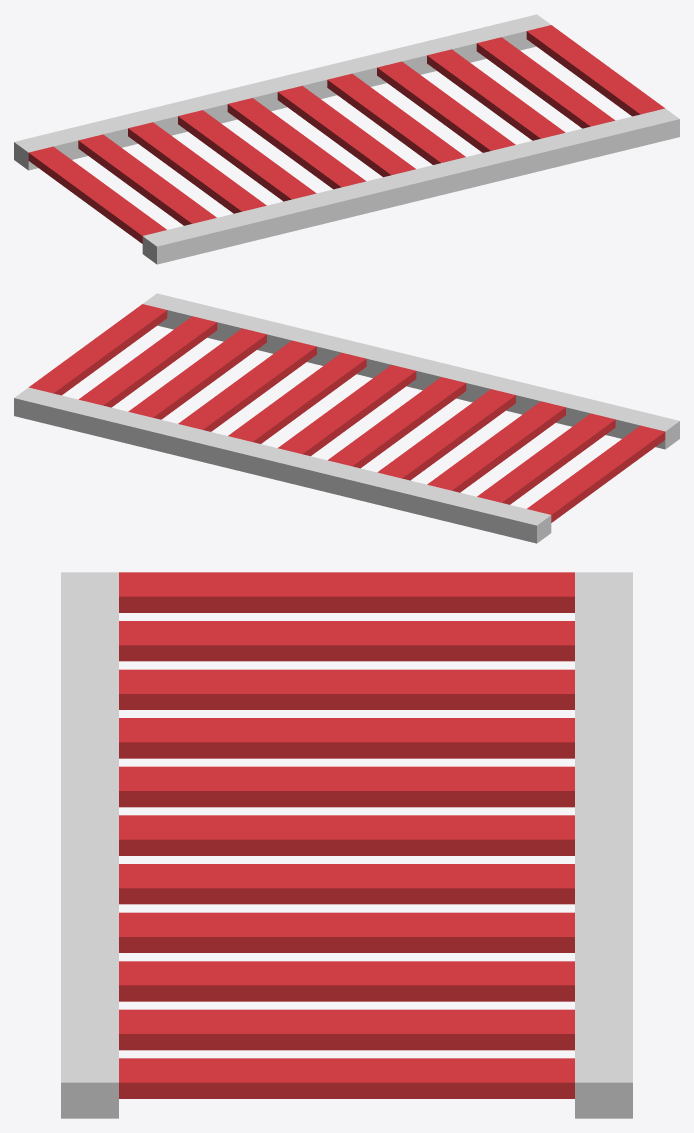
Rendered from m_gen_cargoShelf_shelf.fbx.
The picture shows the model from 3 angles, top to bottom: view 1: azimuth 30°, elevation 25°; view 2: azimuth 150°, elevation 25°; view 3: azimuth 270°, elevation 25°; orthographic projection. The views are drawn at different scales.
Parts seen in each view (by area): view 1: m_gen_cargoShelf_shelf; view 2: m_gen_cargoShelf_shelf; view 3: m_gen_cargoShelf_shelf.
Part boxes in pixels (bbox=[...]): m_gen_cargoShelf_shelf: bbox=[14, 14, 679, 264]; m_gen_cargoShelf_shelf: bbox=[14, 293, 679, 543]; m_gen_cargoShelf_shelf: bbox=[61, 572, 632, 1118].
Bounding box in the file's own units: 396 × 13.01 × 188.
